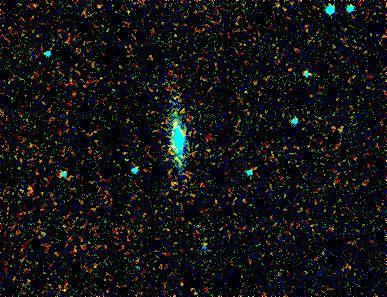star: (160, 112, 190, 142)
